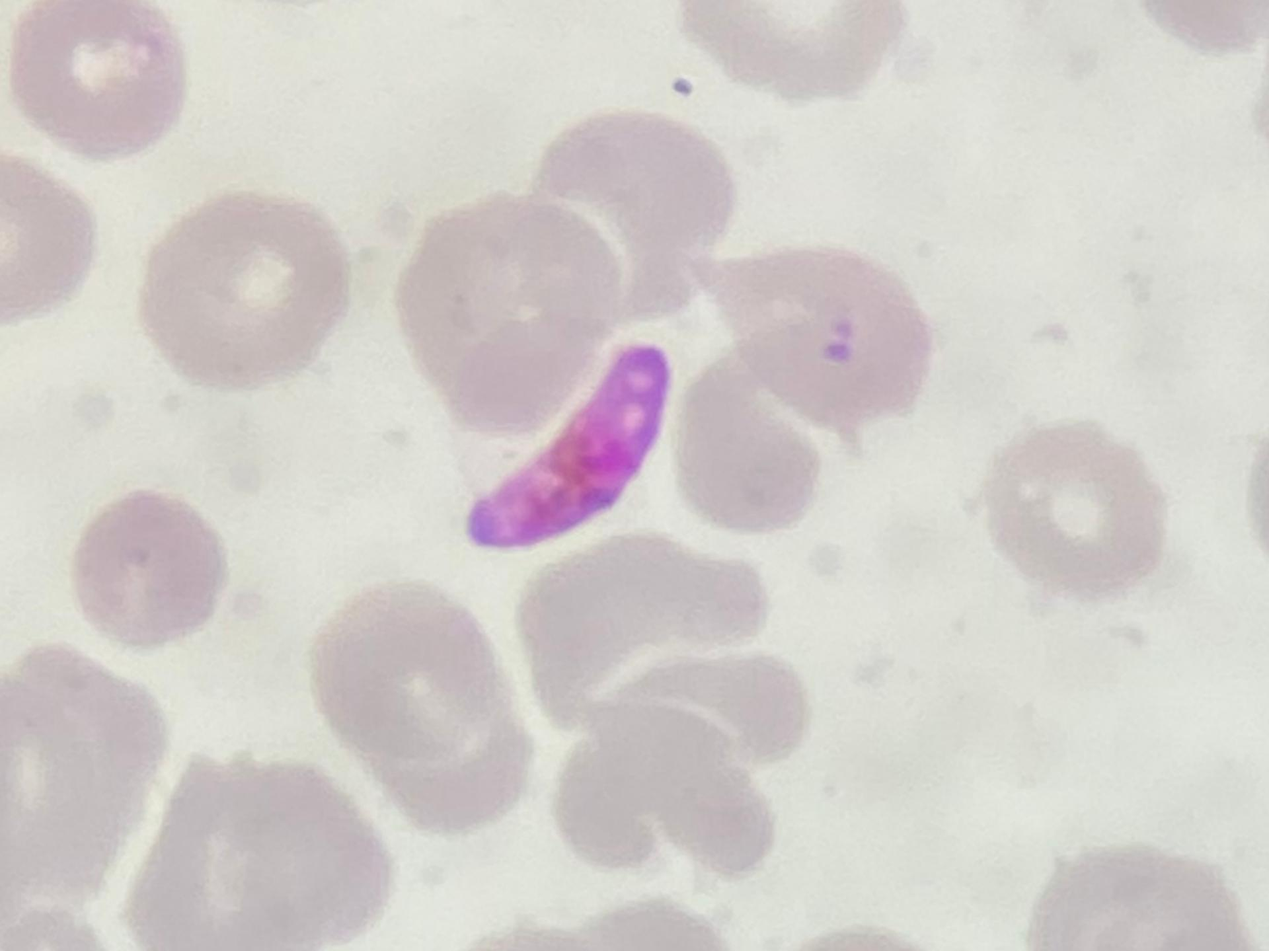Infected: (472, 338, 673, 549)
Uninfected: (399, 198, 629, 427), (131, 758, 385, 946), (519, 535, 768, 719), (694, 239, 928, 428), (310, 584, 517, 790), (137, 189, 350, 387), (551, 700, 779, 879), (535, 109, 736, 301), (5, 644, 165, 866), (978, 422, 1163, 593), (11, 1, 188, 159), (69, 490, 225, 647), (674, 369, 820, 532)
